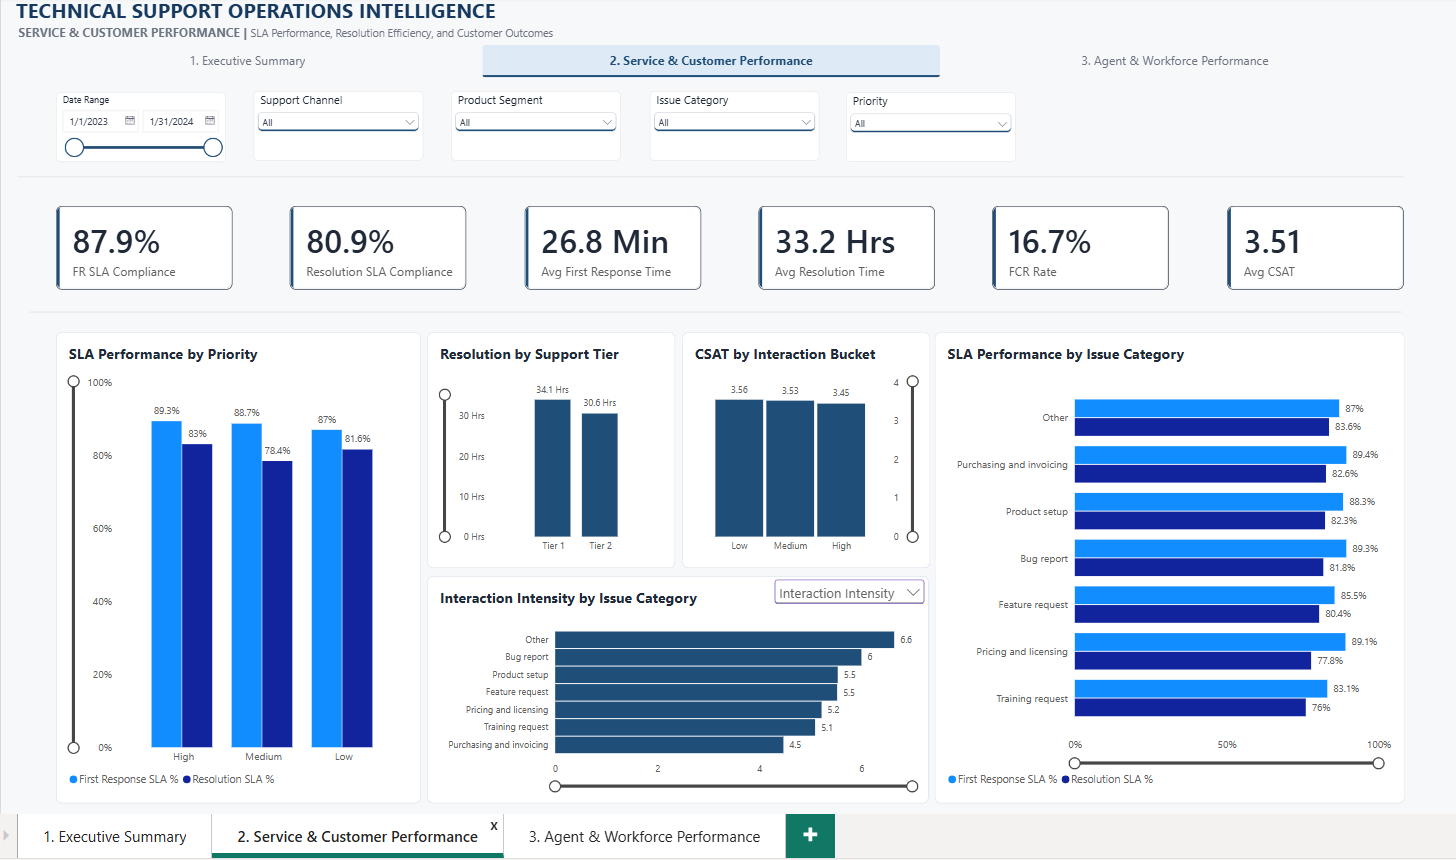

This screenshot's page, from the dashboard's own definition file:
{"tool":"powerbi","page":{"name":"2. Service & Customer Performance","canvas":[1920,1080],"ordinal":1},"visuals":[{"type":"textbox","box":[19.9,0,1672.5,36.3],"z":0,"group":"g1"},{"type":"slicer","title":"Date Range","fields":{"Values":["dim_channel.support_channel"]},"box":[333.5,126.1,224,92],"z":0,"group":"g7"},{"type":"slicer","title":"Date Range","fields":{"Values":["dim_priority.priority_type"]},"box":[1115.7,127.1,224,92],"z":0},{"type":"group","id":"g1","title":"Group 4","box":[19.9,0,1832,424.3],"z":1000},{"type":"textbox","box":[23.3,36.7,1731.7,32.5],"z":1000,"group":"g1"},{"type":"slicer","title":"Date Range","fields":{"Values":["dim_product.product_segment"]},"box":[594.5,126.1,224,92],"z":1000,"group":"g7"},{"type":"pageNavigator","box":[23.6,65,1828.3,43.3],"z":2000,"group":"g7"},{"type":"shape","box":[38.6,411.4,1810,12.9],"z":2000,"group":"g1"},{"type":"clusteredBarChart","title":"SLA Performance by Issue Category","fields":{"Category":["dim_category.issue_category"],"Y":["base_measures.First Response SLA Compliance %","base_measures.Resolution SLA Compliance %"]},"box":[1232.9,444.3,620,621.4],"z":2000,"group":"g6"},{"type":"slicer","title":"Date Range","fields":{"Values":["dim_category.issue_category"]},"box":[855.5,126.1,224,92],"z":3000,"group":"g7"},{"type":"clusteredColumnChart","title":"SLA Performance by Priority","fields":{"Category":["dim_priority.priority_type"],"Y":["base_measures.First Response SLA Compliance %","base_measures.Resolution SLA Compliance %"]},"box":[72.9,444.3,481.4,621.4],"z":3000,"group":"g6"},{"type":"clusteredBarChart","fields":{"Y":["base_measures.Avg Interactions"],"Category":["dim_category.issue_category"]},"box":[562.2,765.7,661.4,300],"z":3000,"group":"g5"},{"type":"shape","box":[21.7,230,1830,18.3],"z":4000,"group":"g7"},{"type":"columnChart","title":"Resolution by Support Tier","fields":{"Y":["base_measures.Avg Resolution Time"],"Category":["dim_support_tier.support_tier"]},"box":[562.2,444.3,327,311.4],"z":4000,"group":"g4"},{"type":"group","id":"g2","title":"Group 2","box":[72.5,277.8,1778,110.5],"z":5000,"group":"g7"},{"type":"clusteredColumnChart","title":"CSAT by Interaction Bucket","fields":{"Category":["fact_support_tickets.Interaction Bucket"],"Y":["base_measures.Avg CSAT"]},"box":[897.9,444.3,327.1,311.4],"z":5000,"group":"g4"},{"type":"slicer","fields":{"Values":["Issue Category Metric.Issue Category Metric"]},"box":[1015.1,765.7,207.1,54.3],"z":5500,"group":"g5"},{"type":"cardVisual","fields":{"Data":["base_measures.First Response SLA Compliance %"]},"box":[72.5,277.8,233,110],"z":6000,"group":"g2"},{"type":"group","id":"g3","title":"Group 5","box":[562.2,765.7,661.4,300],"z":6000,"group":"g4"},{"type":"group","id":"g4","title":"Group 7","box":[562.2,444.3,662.9,621.4],"z":6001,"group":"g6"},{"type":"group","id":"g5","title":"Group 6","box":[562.2,765.7,661.4,300],"z":6001,"group":"g3"},{"type":"group","id":"g6","title":"Group 8","box":[72.9,444.3,1780,621.4],"z":6002},{"type":"cardVisual","fields":{"Data":["base_measures.Resolution SLA Compliance %"]},"box":[381.5,277.8,233,110],"z":7000,"group":"g2"},{"type":"group","id":"g7","title":"Group 3","box":[21.7,65,1830.3,323.3],"z":8000,"group":"g1"},{"type":"cardVisual","fields":{"Data":["base_measures.Avg First Response Time"]},"box":[690.5,277.8,233,110],"z":8000,"group":"g2"},{"type":"cardVisual","fields":{"Data":["base_measures.Avg Resolution Time"]},"box":[999.5,277.8,233,110],"z":9000,"group":"g2"},{"type":"cardVisual","fields":{"Data":["base_measures.FCR Rate"]},"box":[1308.5,277.8,233,110],"z":10000,"group":"g2"},{"type":"cardVisual","fields":{"Data":["base_measures.Avg CSAT"]},"box":[1617.5,277.8,233,110],"z":11000,"group":"g2"},{"type":"slicer","title":"Date Range","fields":{"Values":["dim_date.full_date"]},"box":[72.9,127.1,224,92],"z":11001}]}

Visuals, with their boxes on the page's 1920x1080 design canvas (x1, y1, x2, y2). These are canvas units, not pixel positions in the 1456x860 screenshot, which may show the page scaled, cropped or inside an application window:
textbox: (20, 0, 1692, 36)
"Date Range" slicer: (334, 126, 558, 218)
"Date Range" slicer: (1116, 127, 1340, 219)
"Group 4" group: (20, 0, 1852, 424)
textbox: (23, 37, 1755, 69)
"Date Range" slicer: (594, 126, 818, 218)
pageNavigator: (24, 65, 1852, 108)
shape: (39, 411, 1849, 424)
"SLA Performance by Issue Category" clusteredBarChart: (1233, 444, 1853, 1066)
"Date Range" slicer: (856, 126, 1080, 218)
"SLA Performance by Priority" clusteredColumnChart: (73, 444, 554, 1066)
clusteredBarChart - base_measures.Avg Interactions x dim_category.issue_category: (562, 766, 1224, 1066)
shape: (22, 230, 1852, 248)
"Resolution by Support Tier" columnChart: (562, 444, 889, 756)
"Group 2" group: (72, 278, 1850, 388)
"CSAT by Interaction Bucket" clusteredColumnChart: (898, 444, 1225, 756)
slicer - Issue Category Metric.Issue Category Metric: (1015, 766, 1222, 820)
cardVisual - base_measures.First Response SLA Compliance %: (72, 278, 306, 388)
"Group 5" group: (562, 766, 1224, 1066)
"Group 7" group: (562, 444, 1225, 1066)
"Group 6" group: (562, 766, 1224, 1066)
"Group 8" group: (73, 444, 1853, 1066)
cardVisual - base_measures.Resolution SLA Compliance %: (382, 278, 614, 388)
"Group 3" group: (22, 65, 1852, 388)
cardVisual - base_measures.Avg First Response Time: (690, 278, 924, 388)
cardVisual - base_measures.Avg Resolution Time: (1000, 278, 1232, 388)
cardVisual - base_measures.FCR Rate: (1308, 278, 1542, 388)
cardVisual - base_measures.Avg CSAT: (1618, 278, 1850, 388)
"Date Range" slicer: (73, 127, 297, 219)
